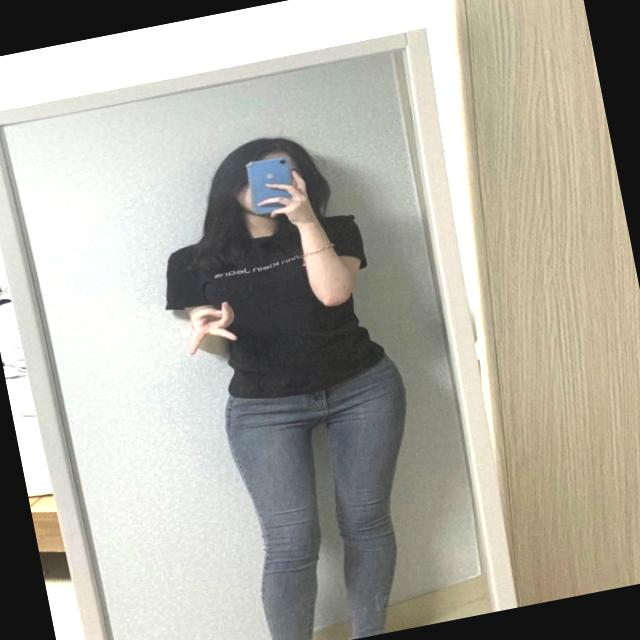denimpants: (218, 349, 449, 640)
shortsleeve: (152, 203, 388, 414)
